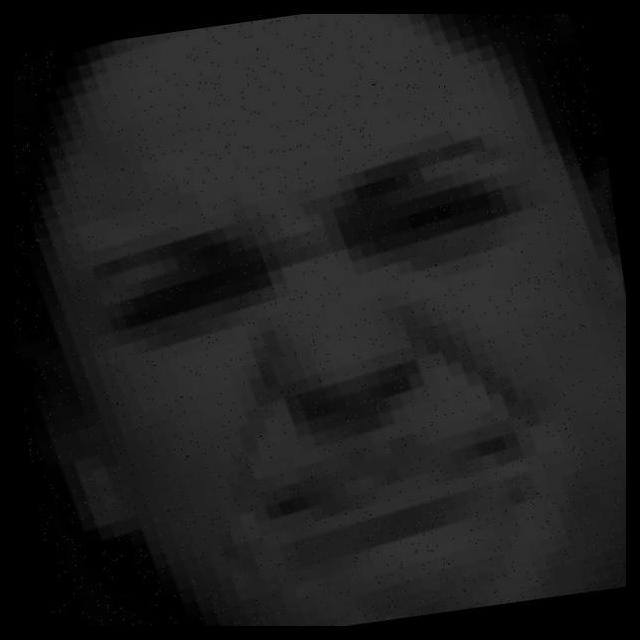Disgust: (66, 100, 626, 573)
